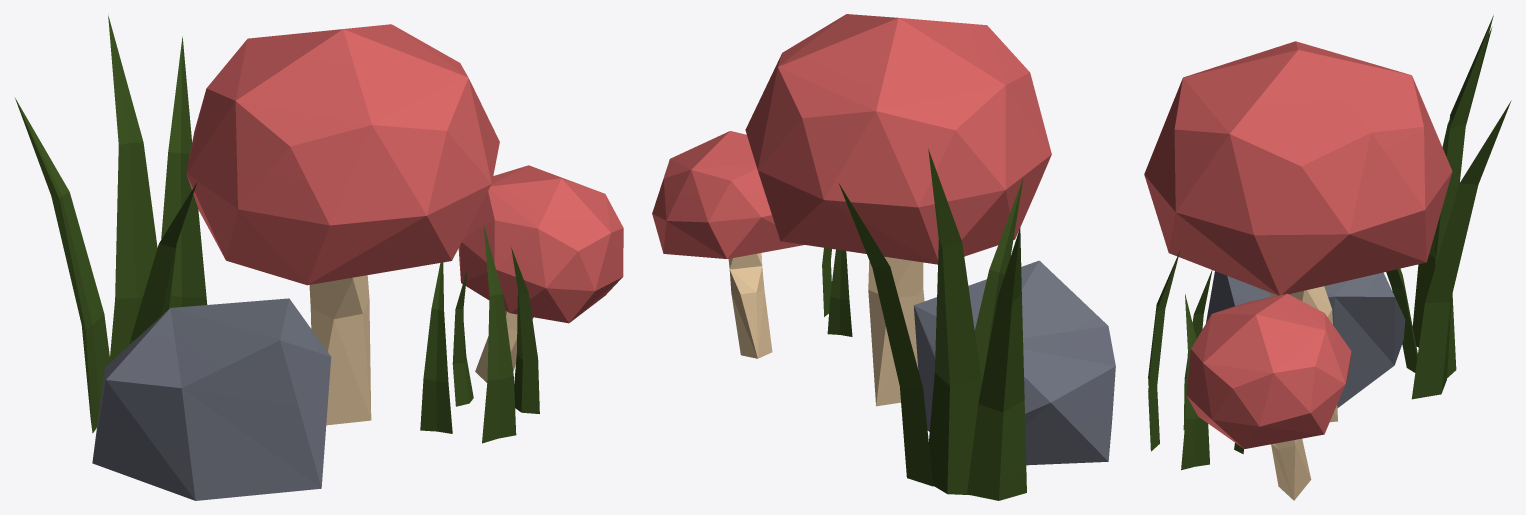
The model's file is Mushroom_04.fbx.
3 renders of one model, left to right at view 1: azimuth 30°, elevation 25°; view 2: azimuth 150°, elevation 25°; view 3: azimuth 270°, elevation 25°, orthographic. The views are drawn at different scales.
Parts seen in each view (by area): view 1: Mushroom_04; view 2: Mushroom_04; view 3: Mushroom_04.
Part boxes in pixels (left/top/right/bottom): Mushroom_04: left=14, top=14, right=623, bottom=500; Mushroom_04: left=652, top=14, right=1115, bottom=500; Mushroom_04: left=1144, top=15, right=1511, bottom=500.
Size of the model in its own units: 56.62 by 44.33 by 38.45.
